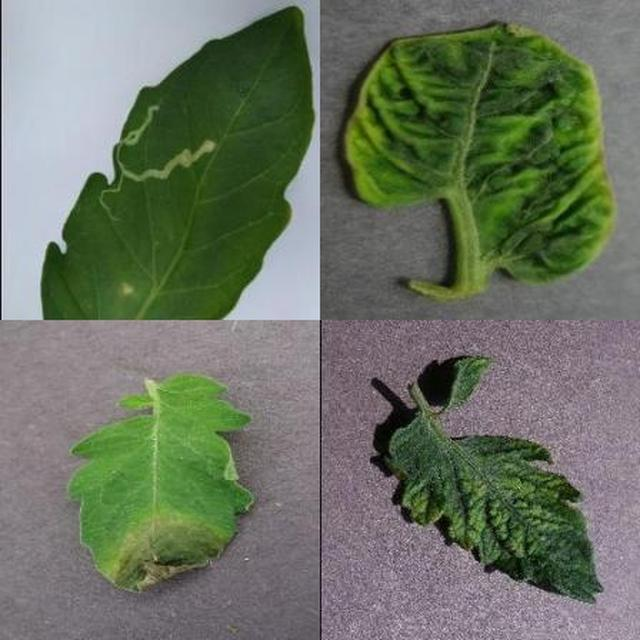Leaf Miner: (231, 219, 640, 640)
